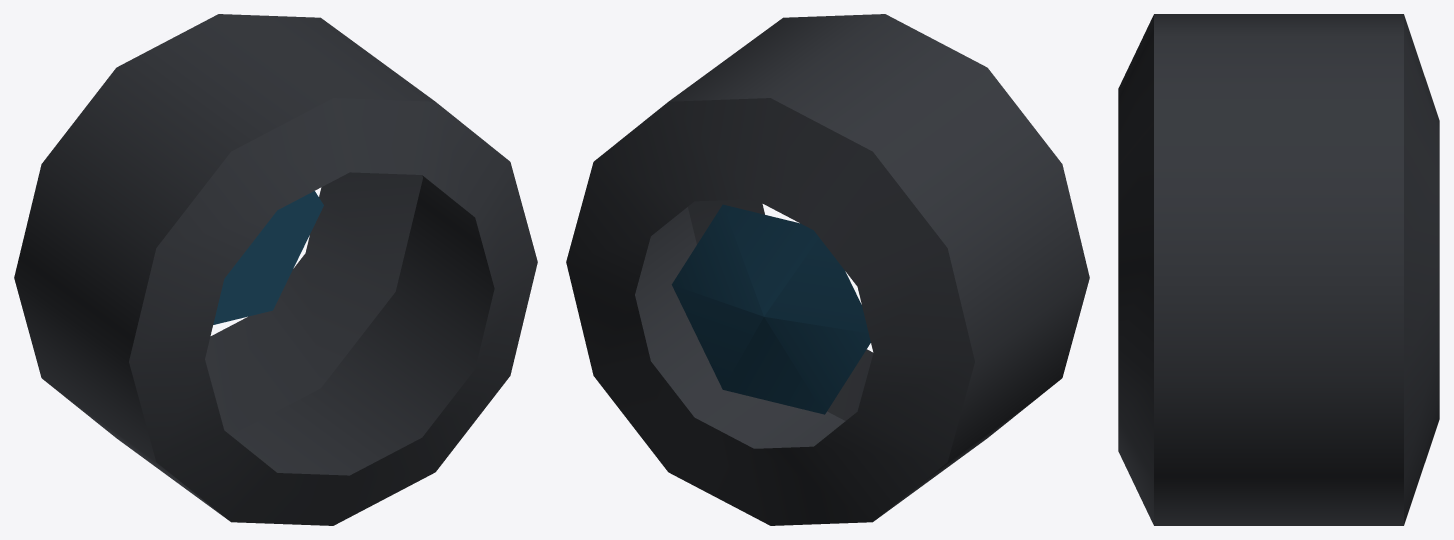
The model's file is fl_lens_head.obj.
The picture shows the model from 3 angles, left to right: view 1: azimuth 30°, elevation 25°; view 2: azimuth 150°, elevation 25°; view 3: azimuth 270°, elevation 25°; orthographic projection. The views are drawn at different scales.
Parts seen in each view (by area): view 1: fl_lens_head; view 2: fl_lens_head; view 3: fl_lens_head.
Boxes of the visible parts, x1,y1,x2,y2 form: fl_lens_head: (14,14,537,525); fl_lens_head: (566,14,1089,525); fl_lens_head: (1118,14,1439,525).
Bounding box in the file's own units: 0.9 × 0.9 × 0.5625.
